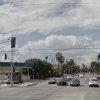Car: (49, 74, 83, 91)
